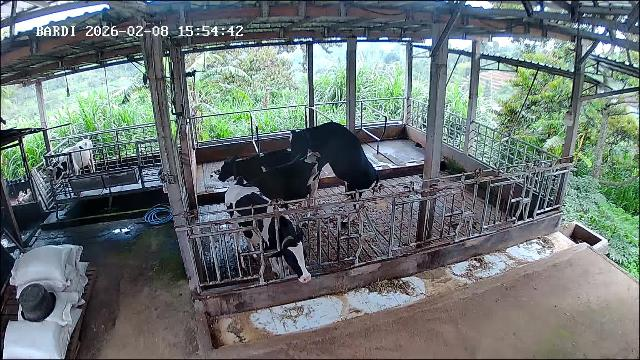mounting: (287, 118, 379, 222)
